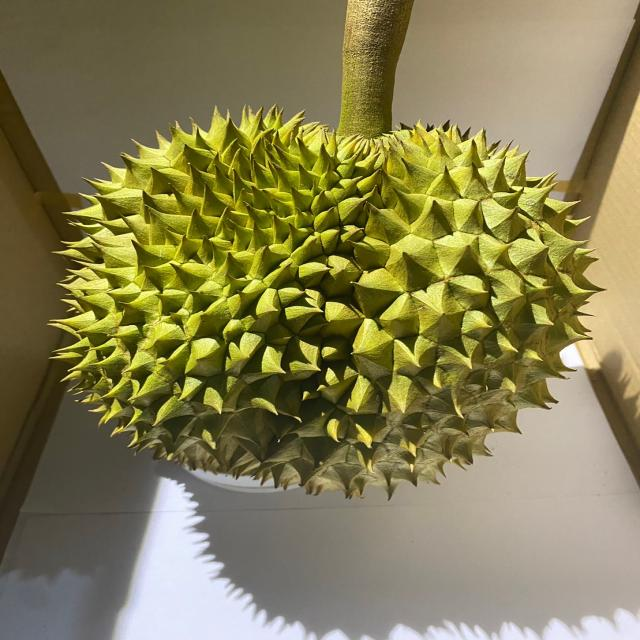immature: (45, 105, 606, 496)
